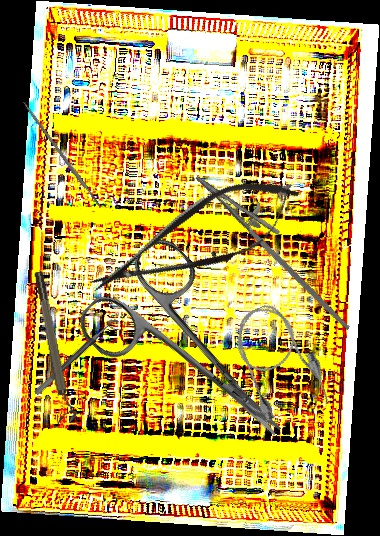Cannula: (223, 294, 336, 429)
Fixation Ring: (33, 315, 125, 403), (31, 269, 79, 425)
Iris Scissors: (71, 232, 320, 481)
Micro Scissor: (76, 159, 314, 320)
Needle Holder: (178, 161, 377, 332)
Scalpel Handle: (21, 100, 102, 209)
